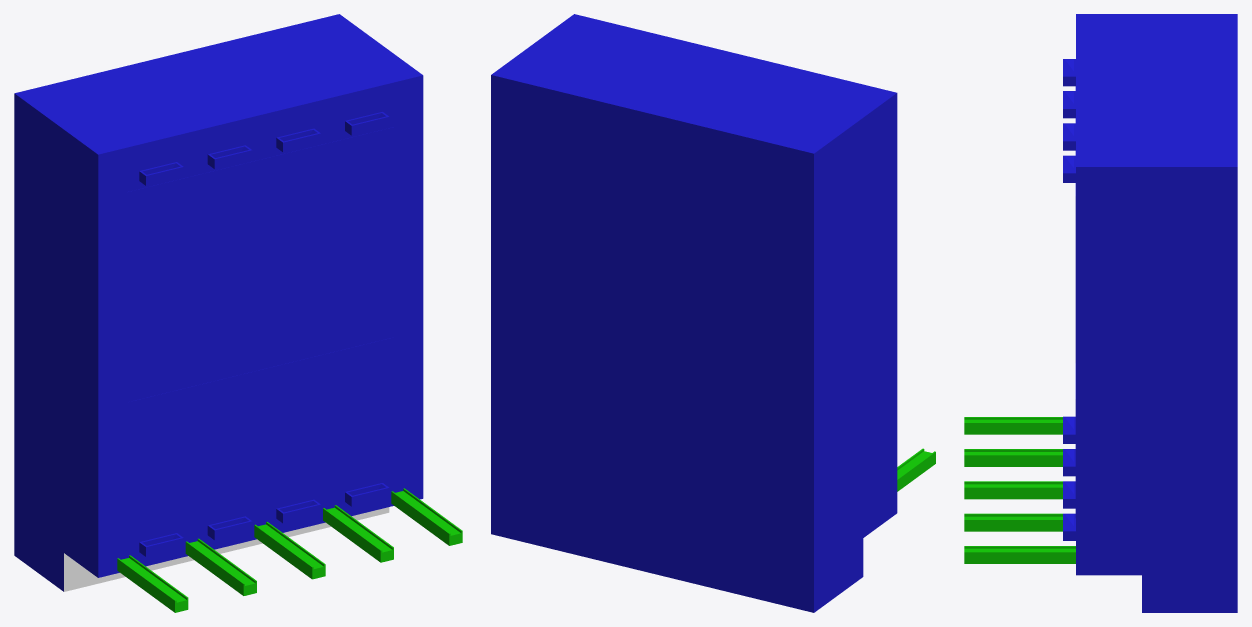
Rendered from asrs.glb.
3 views of the same model, side by side, from view 1: azimuth 30°, elevation 25°; view 2: azimuth 150°, elevation 25°; view 3: azimuth 270°, elevation 25° (orthographic). The views are drawn at different scales.
Visible parts, largest first — view 1: ID2; view 2: ID2; view 3: ID2.
Boxes of the visible parts, x1,y1,x2,y2 form: ID2: (14, 14, 462, 612); ID2: (491, 14, 935, 612); ID2: (964, 14, 1237, 612).
Bounding box in the file's own units: 1.38 × 1.87 × 1.04.
Materials: 3 (1 with a texture image).
